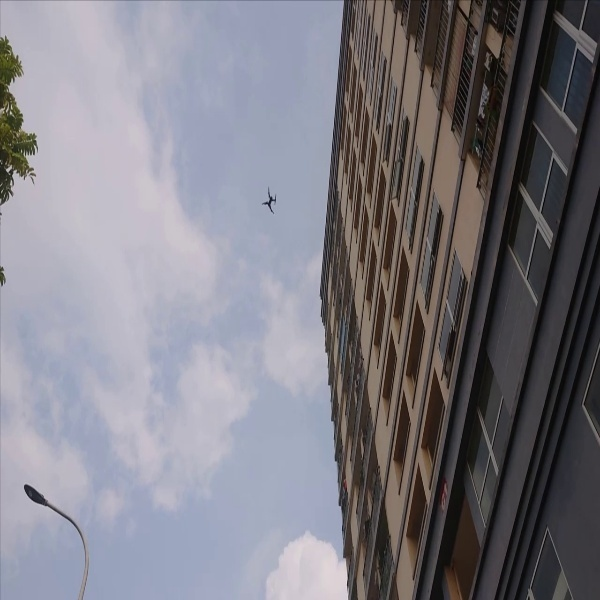drone: (254, 186, 291, 213)
